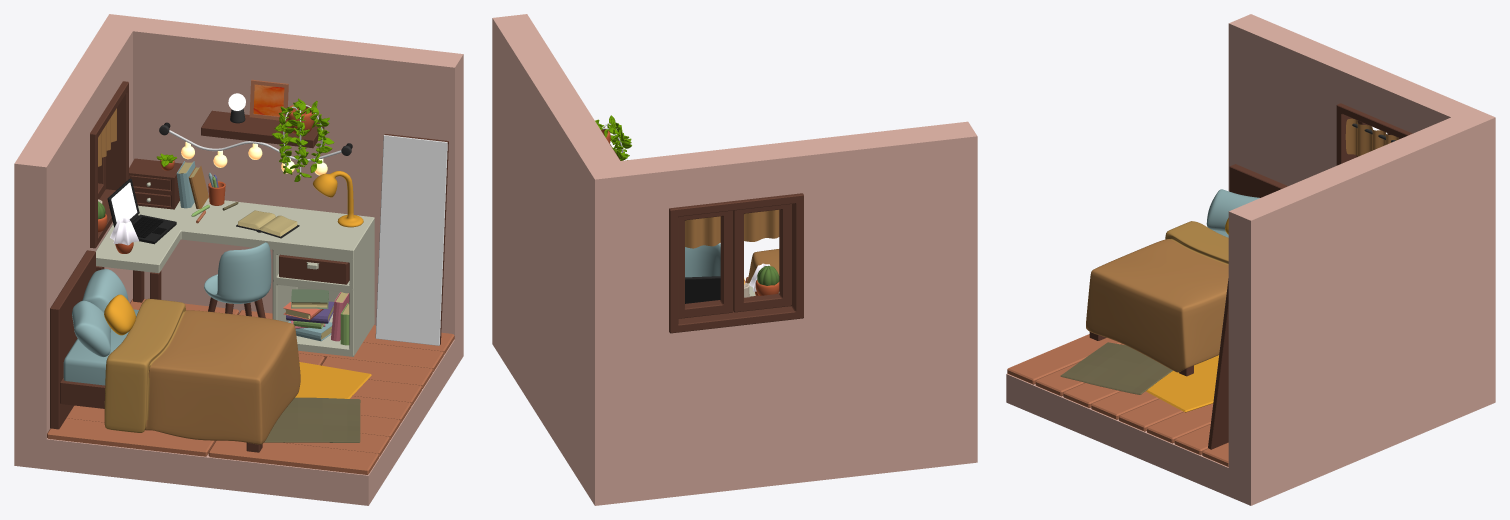
The model's file is RoomWebsiteAssets.glb.
3 renders of one model, left to right at view 1: azimuth 30°, elevation 25°; view 2: azimuth 150°, elevation 25°; view 3: azimuth 270°, elevation 25°, orthographic. The views are drawn at different scales.
Parts seen in each view (by area): view 1: Wall, BedMatress, Wooden Tile, Desk, Cube, Floor, Rug2, Windowframe, BedHeadboard, Chair, Shelf, StorageCabinette (+17 smaller); view 2: Wall, Windowframe, WindowLeft, WindowRight, Curtain, Chair, LaptopScreen, BedMatress; view 3: Wall, BedMatress, Wooden Tile, Floor, Rug2, Rug1, Cube, Windowframe, BedHeadboard, Curtain, BedPillow1.
Part boxes in pixels (bbox=[...]): Wall: bbox=[14, 14, 463, 469]; BedMatress: bbox=[104, 298, 300, 444]; Wooden Tile: bbox=[47, 299, 454, 474]; Desk: bbox=[95, 198, 374, 356]; Cube: bbox=[375, 134, 448, 345]; Floor: bbox=[46, 339, 454, 505]; Rug2: bbox=[264, 397, 360, 442]; Windowframe: bbox=[90, 81, 128, 248]; BedHeadboard: bbox=[50, 250, 95, 429]; Chair: bbox=[204, 242, 271, 303]; Shelf: bbox=[201, 110, 324, 148]; StorageCabinette: bbox=[129, 158, 182, 209]; Wall: bbox=[492, 14, 977, 505]; Windowframe: bbox=[669, 193, 803, 333]; WindowLeft: bbox=[733, 204, 791, 312]; WindowRight: bbox=[678, 210, 732, 318]; Curtain: bbox=[685, 209, 779, 248]; Chair: bbox=[685, 243, 720, 277]; LaptopScreen: bbox=[685, 276, 720, 303]; BedMatress: bbox=[747, 249, 779, 283]; Wall: bbox=[1228, 14, 1495, 505]; BedMatress: bbox=[1086, 221, 1228, 372]; Wooden Tile: bbox=[1007, 334, 1228, 466]; Floor: bbox=[1006, 373, 1228, 496]; Rug2: bbox=[1060, 342, 1172, 394]; Rug1: bbox=[1146, 355, 1218, 412]; Cube: bbox=[1208, 278, 1228, 449]; Windowframe: bbox=[1336, 103, 1412, 165]; BedHeadboard: bbox=[1229, 164, 1287, 197]; Curtain: bbox=[1345, 118, 1398, 156]; BedPillow1: bbox=[1206, 189, 1259, 231].
Bounding box in the file's own units: 3.11 × 2 × 3.11.
29 materials, 1 textured.
